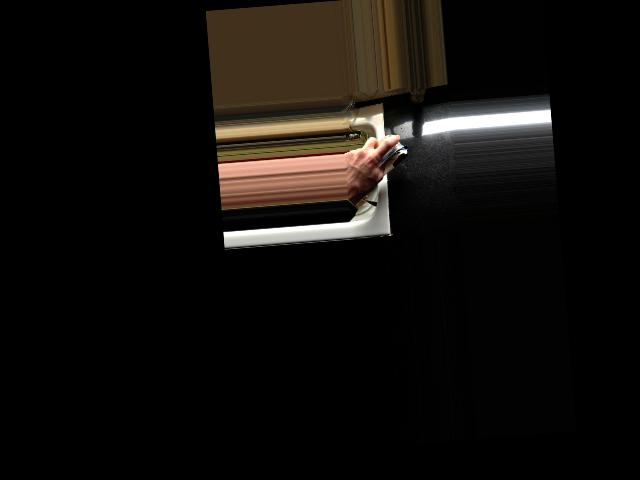cheese: (346, 136, 412, 187)
